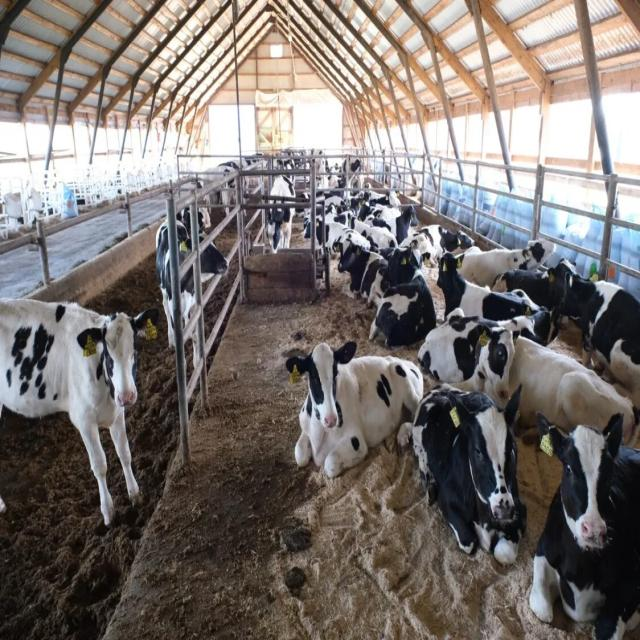cow: (0, 296, 159, 528), (528, 408, 639, 638), (398, 380, 526, 566), (284, 339, 424, 479), (154, 208, 228, 368)
